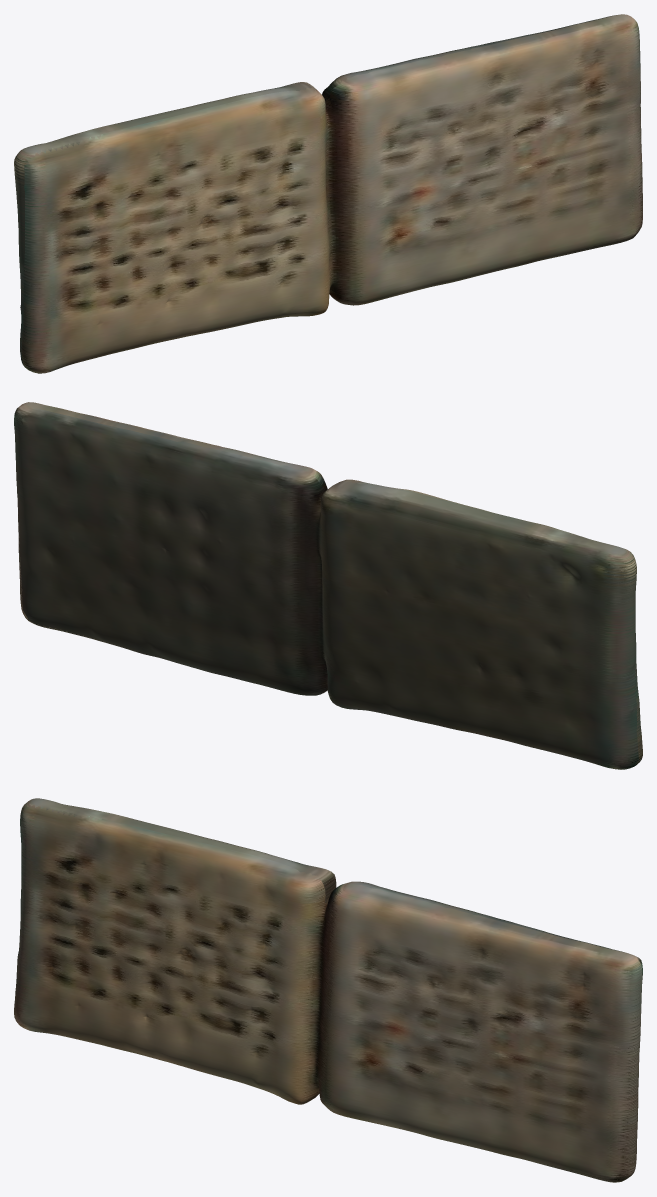
Rendered from kfl-2198.glb.
The picture shows the model from 3 angles, top to bottom: view 1: azimuth 30°, elevation 25°; view 2: azimuth 150°, elevation 25°; view 3: azimuth 330°, elevation 25°; orthographic projection.
Parts seen in each view (by area): view 1: geometry_0; view 2: geometry_0; view 3: geometry_0.
Boxes of the visible parts, box(x1,y1,x2,y2) form: geometry_0: box(14, 14, 642, 373); geometry_0: box(14, 402, 642, 769); geometry_0: box(14, 798, 642, 1182).
Size of the model in its own units: 0.9922 by 0.3485 by 0.0989.
1 material, 1 textured.
